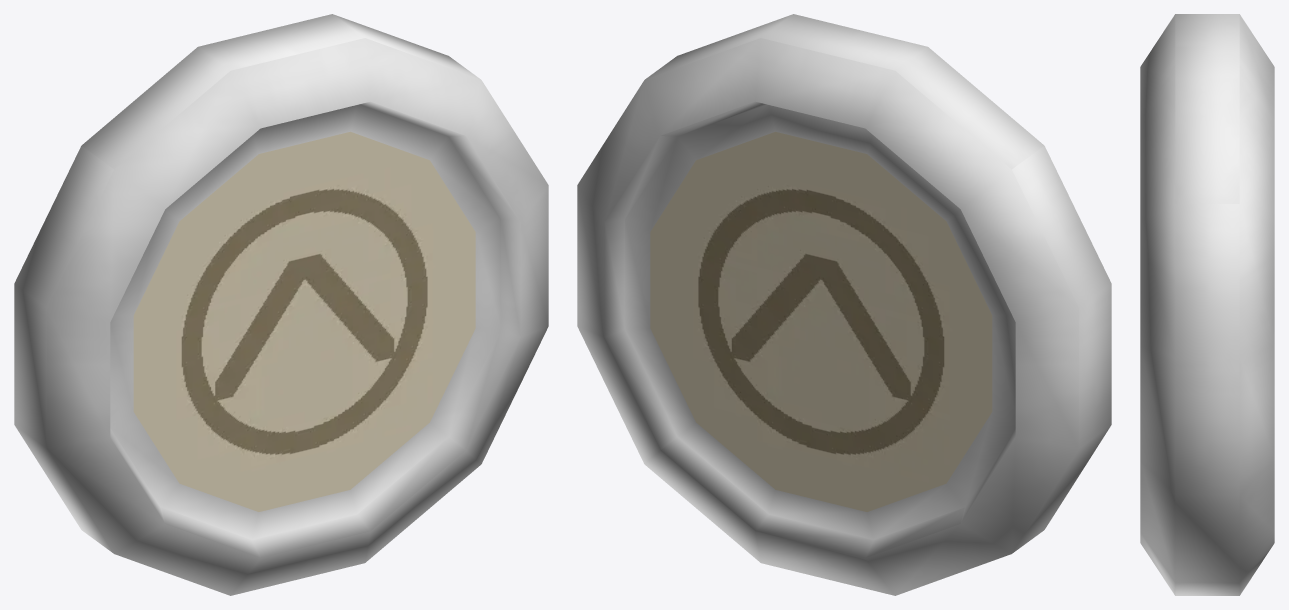
Rendered from coin.glb.
The picture shows the model from 3 angles, left to right: view 1: azimuth 30°, elevation 25°; view 2: azimuth 150°, elevation 25°; view 3: azimuth 270°, elevation 25°; orthographic projection.
Parts seen in each view (by area): view 1: fx.coin; view 2: fx.coin; view 3: fx.coin.
Part boxes in pixels (x1,y1,x2,y2): fx.coin: (14,14,548,595); fx.coin: (577,14,1111,595); fx.coin: (1140,14,1274,595).
Size of the model in its own units: 0.2125 by 0.2125 by 0.05.
2 materials, 2 textured.
